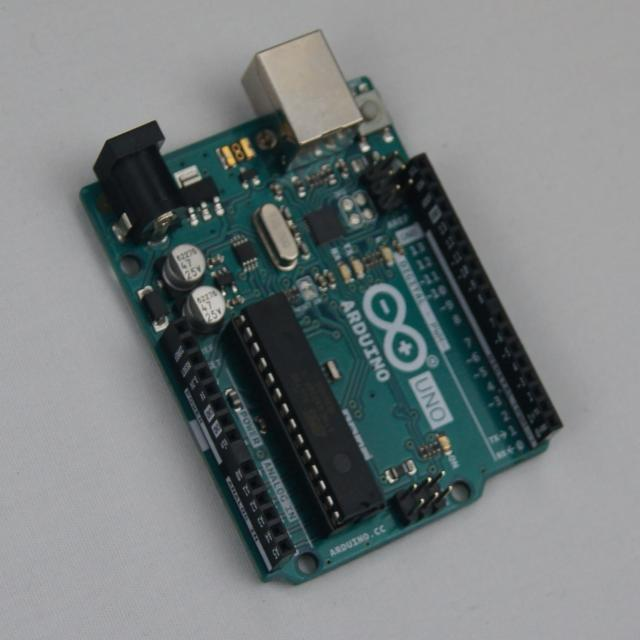Arduino Uno -Green-: (82, 32, 561, 584)
